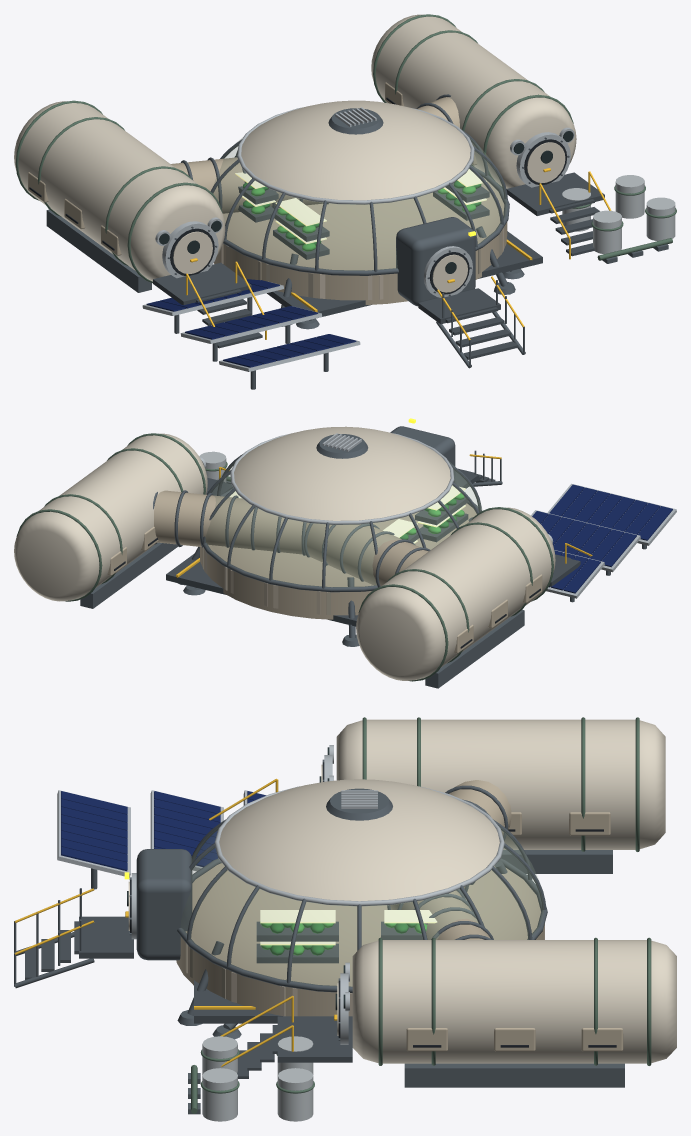
The model's file is base-boss-verdant.glb.
3 views of the same model, one above another, from view 1: azimuth 30°, elevation 25°; view 2: azimuth 150°, elevation 25°; view 3: azimuth 270°, elevation 25° (orthographic). The views are drawn at different scales.
Parts seen in each view (by area): view 1: base-boss-verdant-warm-ceramic-insulation, base-boss-verdant-oatmeal-thermal-blanket, base-boss-verdant-greenhouse-view-panels, base-boss-verdant-dark-steel, base-boss-verdant-floor-grate, base-boss-verdant-aluminium, base-boss-verdant-agriculture-identification, base-boss-verdant-solar-cell, base-boss-verdant-panel-grey, base-boss-verdant-hazard-yellow, grow_lights-crop-worklight, base-boss-verdant-dark-polymer (+3 smaller); view 2: base-boss-verdant-warm-ceramic-insulation, base-boss-verdant-oatmeal-thermal-blanket, base-boss-verdant-greenhouse-view-panels, base-boss-verdant-dark-steel, base-boss-verdant-solar-cell, base-boss-verdant-aluminium, base-boss-verdant-agriculture-identification, base-boss-verdant-floor-grate, grow_lights-crop-worklight, base-boss-verdant-panel-grey; view 3: base-boss-verdant-warm-ceramic-insulation, base-boss-verdant-dark-steel, base-boss-verdant-oatmeal-thermal-blanket, base-boss-verdant-greenhouse-view-panels, base-boss-verdant-floor-grate, base-boss-verdant-solar-cell, base-boss-verdant-aluminium, base-boss-verdant-panel-grey, base-boss-verdant-agriculture-identification, grow_lights-crop-worklight, base-boss-verdant-hazard-yellow, base-boss-verdant-leaf-dark (+1 smaller).
Part boxes in pixels (left/top/right/bottom): base-boss-verdant-warm-ceramic-insulation: left=14, top=14, right=576, bottom=292; base-boss-verdant-oatmeal-thermal-blanket: left=28, top=82, right=507, bottom=304; base-boss-verdant-greenhouse-view-panels: left=212, top=137, right=506, bottom=270; base-boss-verdant-dark-steel: left=46, top=94, right=668, bottom=389; base-boss-verdant-floor-grate: left=153, top=172, right=604, bottom=359; base-boss-verdant-aluminium: left=142, top=107, right=574, bottom=371; base-boss-verdant-agriculture-identification: left=15, top=14, right=676, bottom=283; base-boss-verdant-solar-cell: left=146, top=279, right=356, bottom=367; base-boss-verdant-panel-grey: left=562, top=175, right=675, bottom=254; base-boss-verdant-hazard-yellow: left=186, top=168, right=611, bottom=340; grow_lights-crop-worklight: left=235, top=169, right=486, bottom=244; base-boss-verdant-dark-polymer: left=29, top=97, right=567, bottom=294; base-boss-verdant-warm-ceramic-insulation: left=14, top=426, right=555, bottom=680; base-boss-verdant-oatmeal-thermal-blanket: left=107, top=490, right=542, bottom=653; base-boss-verdant-greenhouse-view-panels: left=205, top=462, right=482, bottom=587; base-boss-verdant-dark-steel: left=80, top=426, right=646, bottom=688; base-boss-verdant-solar-cell: left=532, top=484, right=672, bottom=593; base-boss-verdant-aluminium: left=199, top=433, right=676, bottom=598; base-boss-verdant-agriculture-identification: left=16, top=433, right=553, bottom=681; base-boss-verdant-floor-grate: left=166, top=468, right=580, bottom=626; grow_lights-crop-worklight: left=229, top=485, right=465, bottom=543; base-boss-verdant-panel-grey: left=199, top=451, right=226, bottom=482; base-boss-verdant-warm-ceramic-insulation: left=128, top=719, right=676, bottom=1063; base-boss-verdant-dark-steel: left=14, top=759, right=624, bottom=1114; base-boss-verdant-oatmeal-thermal-blanket: left=176, top=780, right=623, bottom=1051; base-boss-verdant-greenhouse-view-panels: left=180, top=827, right=543, bottom=986; base-boss-verdant-floor-grate: left=25, top=916, right=422, bottom=1078; base-boss-verdant-solar-cell: left=61, top=791, right=266, bottom=871; base-boss-verdant-aluminium: left=57, top=745, right=504, bottom=1044; base-boss-verdant-panel-grey: left=202, top=1036, right=313, bottom=1121; base-boss-verdant-agriculture-identification: left=191, top=717, right=651, bottom=1113; grow_lights-crop-worklight: left=260, top=910, right=437, bottom=945; base-boss-verdant-hazard-yellow: left=14, top=778, right=337, bottom=1066; base-boss-verdant-leaf-dark: left=270, top=923, right=416, bottom=955.
Size of the model in its own units: 15.2 by 4.23 by 14.52.
